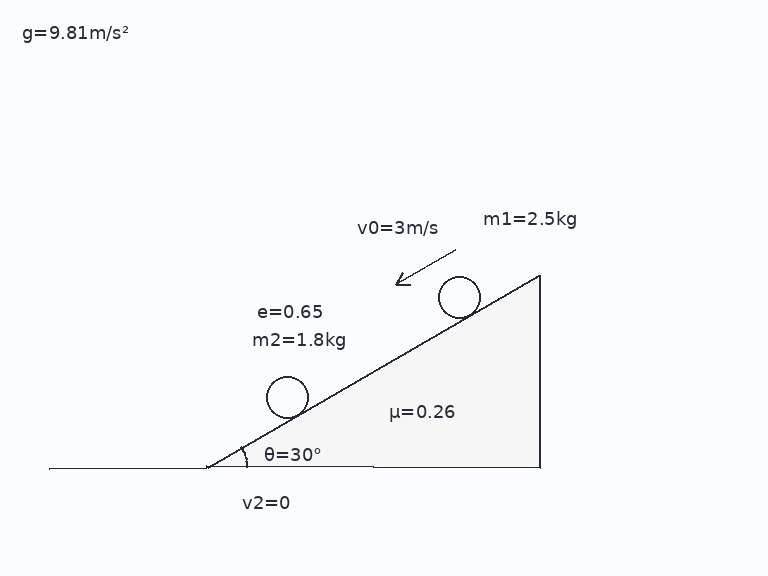ball: (436, 274, 482, 320), (264, 374, 310, 420)
ramp: (205, 273, 542, 469)
